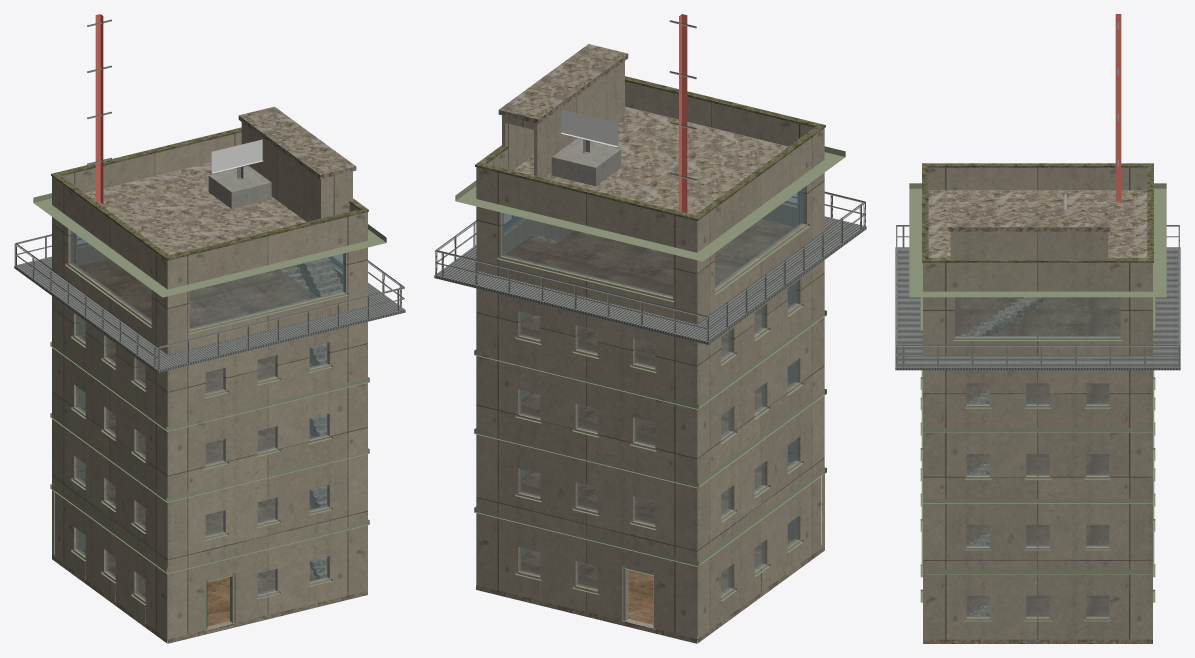
Rendered from mb-ops-tower.zfix-v20.lod0.glb.
The picture shows the model from 3 angles, left to right: view 1: azimuth 30°, elevation 25°; view 2: azimuth 150°, elevation 25°; view 3: azimuth 270°, elevation 25°; orthographic projection. The views are drawn at different scales.
Visible parts, largest first — view 1: mb-ops-tower; view 2: mb-ops-tower; view 3: mb-ops-tower.
Part boxes in pixels (x1,y1,x2,y2): mb-ops-tower: (14,14,405,643); mb-ops-tower: (434,14,866,643); mb-ops-tower: (895,14,1180,643).
Bounding box in the file's own units: 12.4 × 26.22 × 12.4.
Materials: 6 (4 with a texture image).
